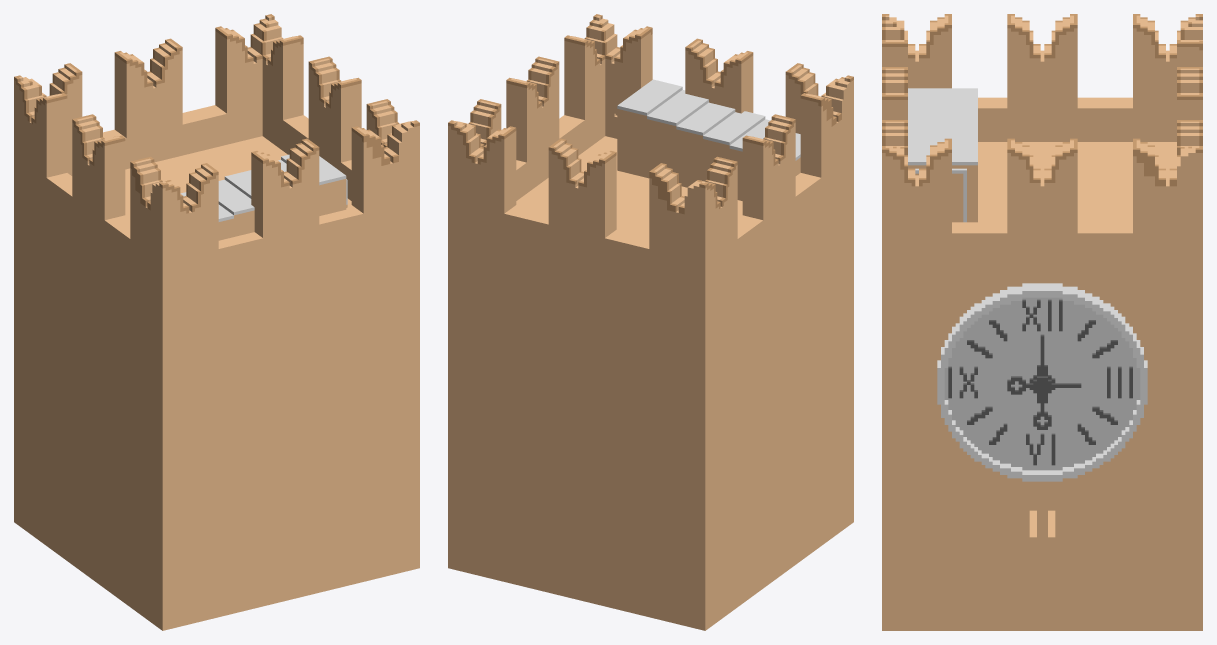
The model's file is castelloVillafranca-42.obj.
3 views of the same model, side by side, from view 1: azimuth 30°, elevation 25°; view 2: azimuth 150°, elevation 25°; view 3: azimuth 270°, elevation 25° (orthographic). The views are drawn at different scales.
Size of the model in its own units: 9.2 by 14.4 by 8.7.
Materials: 1 (1 with a texture image).
